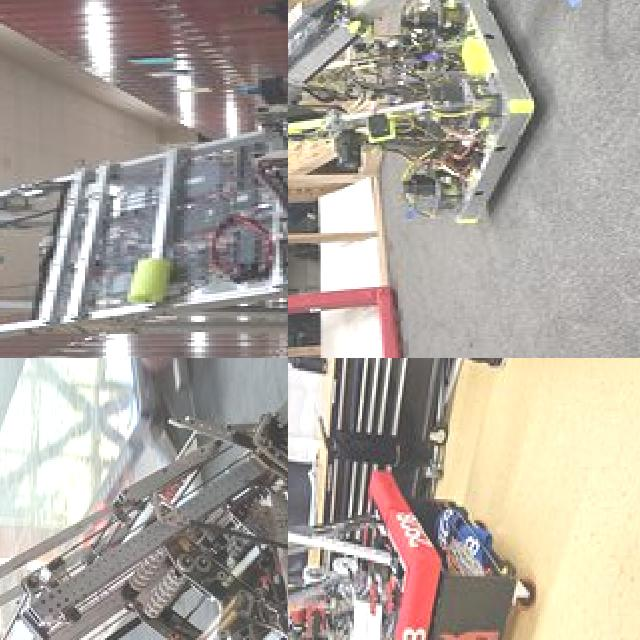FRC-Robots: (0, 0, 288, 358), (0, 358, 288, 640), (288, 0, 640, 228), (288, 455, 438, 640)
